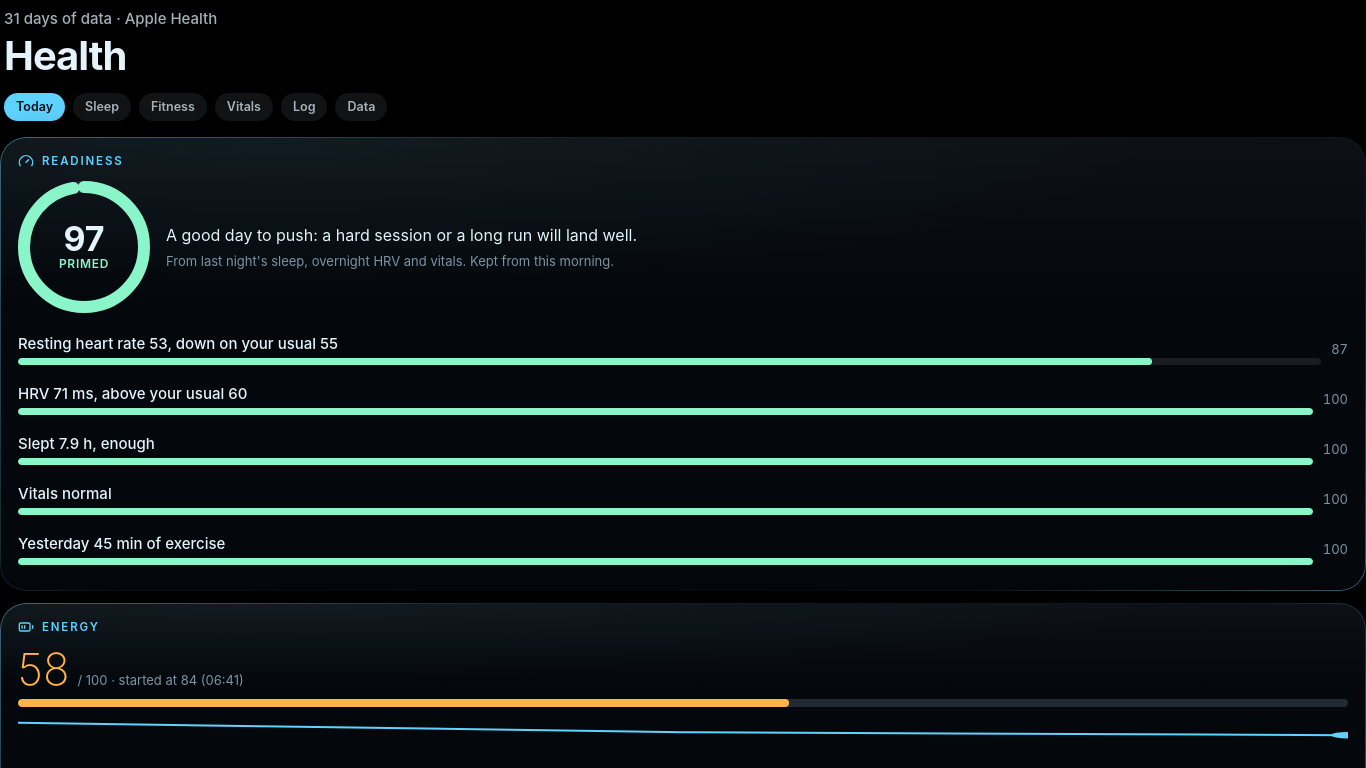
it: <HealthScreen /> › shows readiness with what drove it, then sleep, fitness and vitals
Check: the text "A good day to push: a hard session or a long run will land well." is shown, box [166,224,637,246]
Check: the text "HRV 71 ms, above your usual 60" is shown, box [18,384,247,403]
Click the tab "Sleep" at (102, 107), box [73,93,131,121]
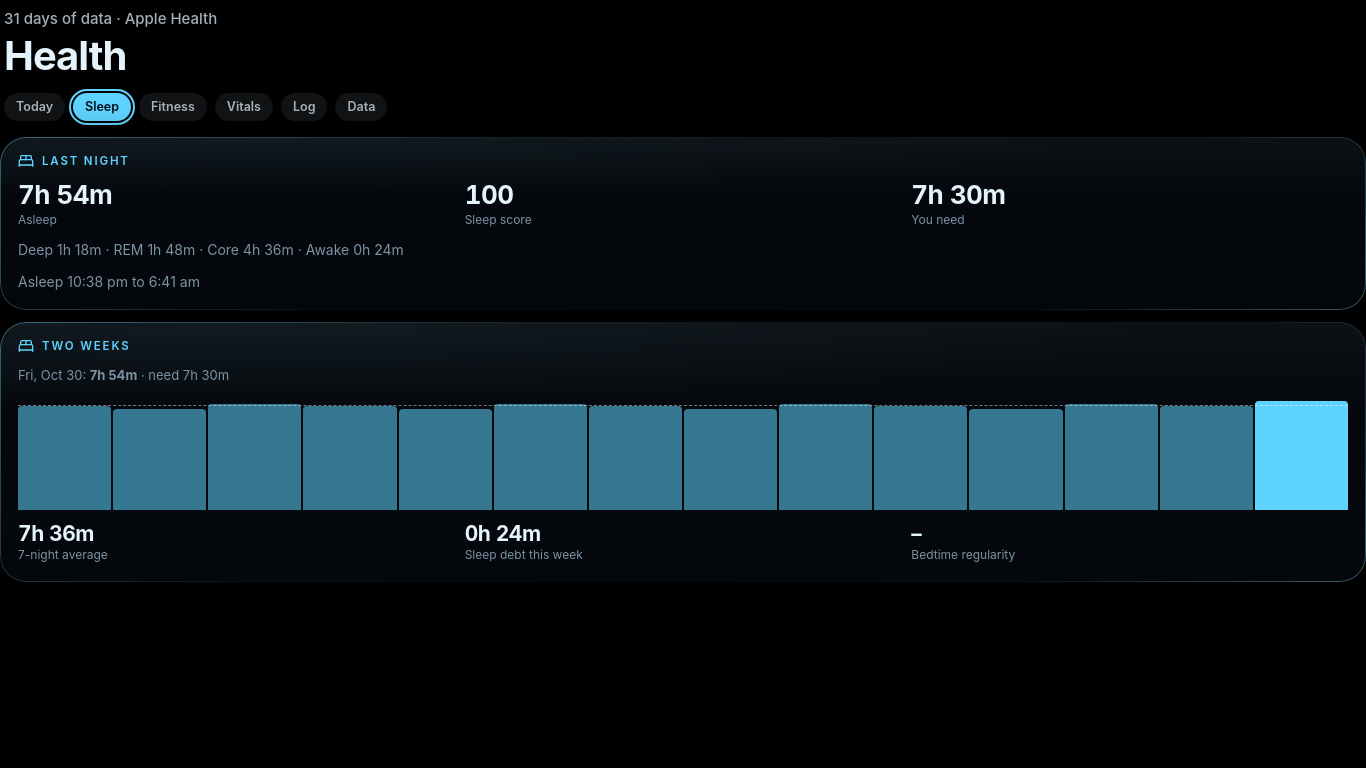
Check: the text "7h 54m" next to "100" is shown, box [18,179,112,210]
Check: the text "Asleep 10:38 pm to 6:41 am" is shown, box [18,273,200,290]
Hover over the list item named "Sat, Oct 17: 7h 30m" at (65, 450), box [18,390,111,510]
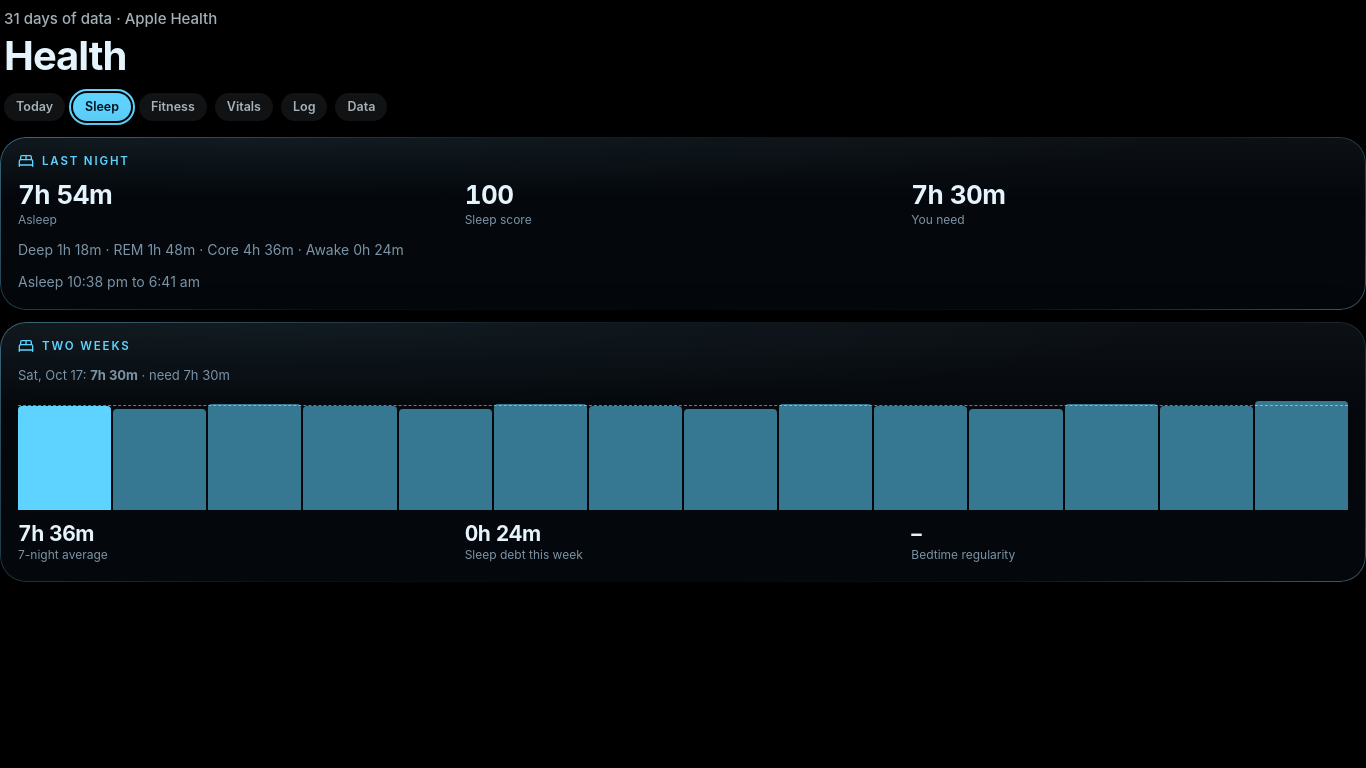
Check: the text "Sat, Oct 17: 7h 30m · need 7h 30m" is shown, box [18,367,230,383]
Click the tab "Fitness" at (173, 107), box [139,93,207,121]
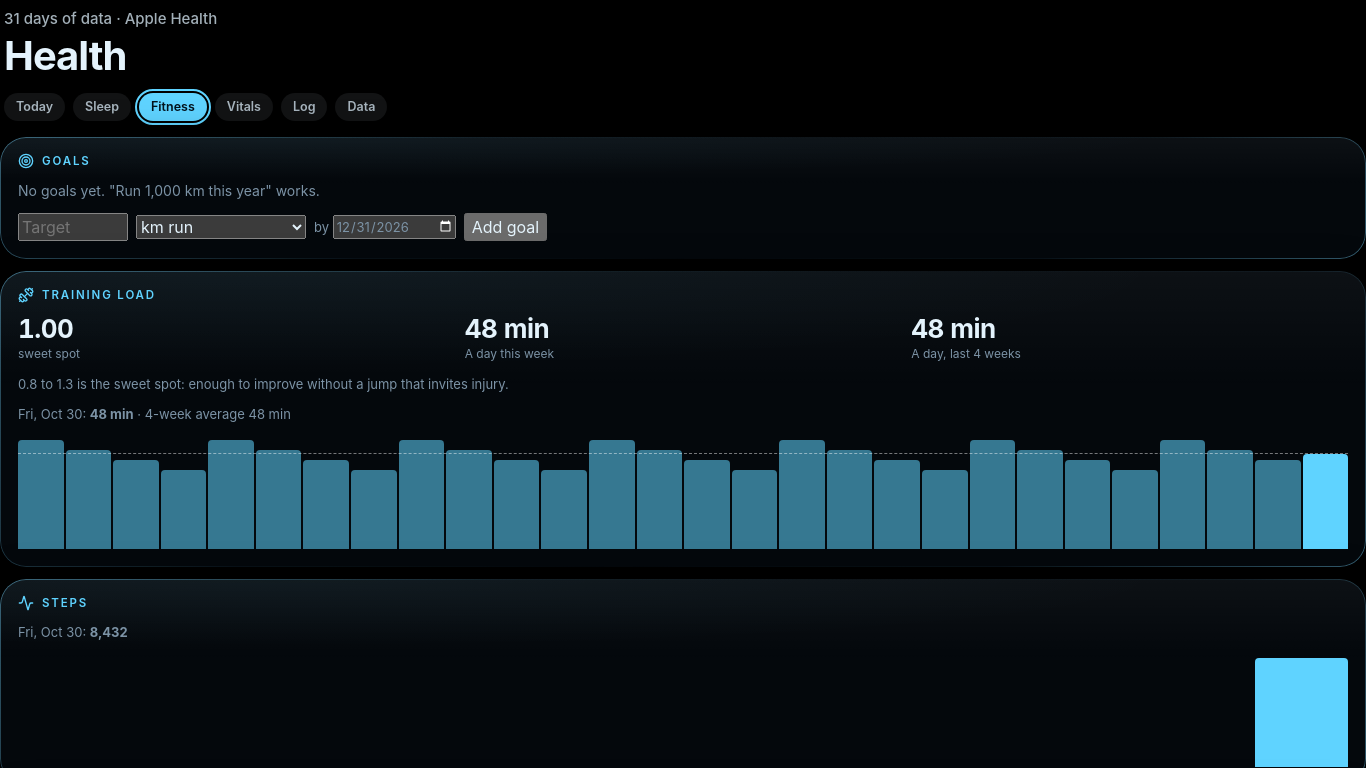
Click the tab "Vitals" at (244, 107), box [215,93,273,121]
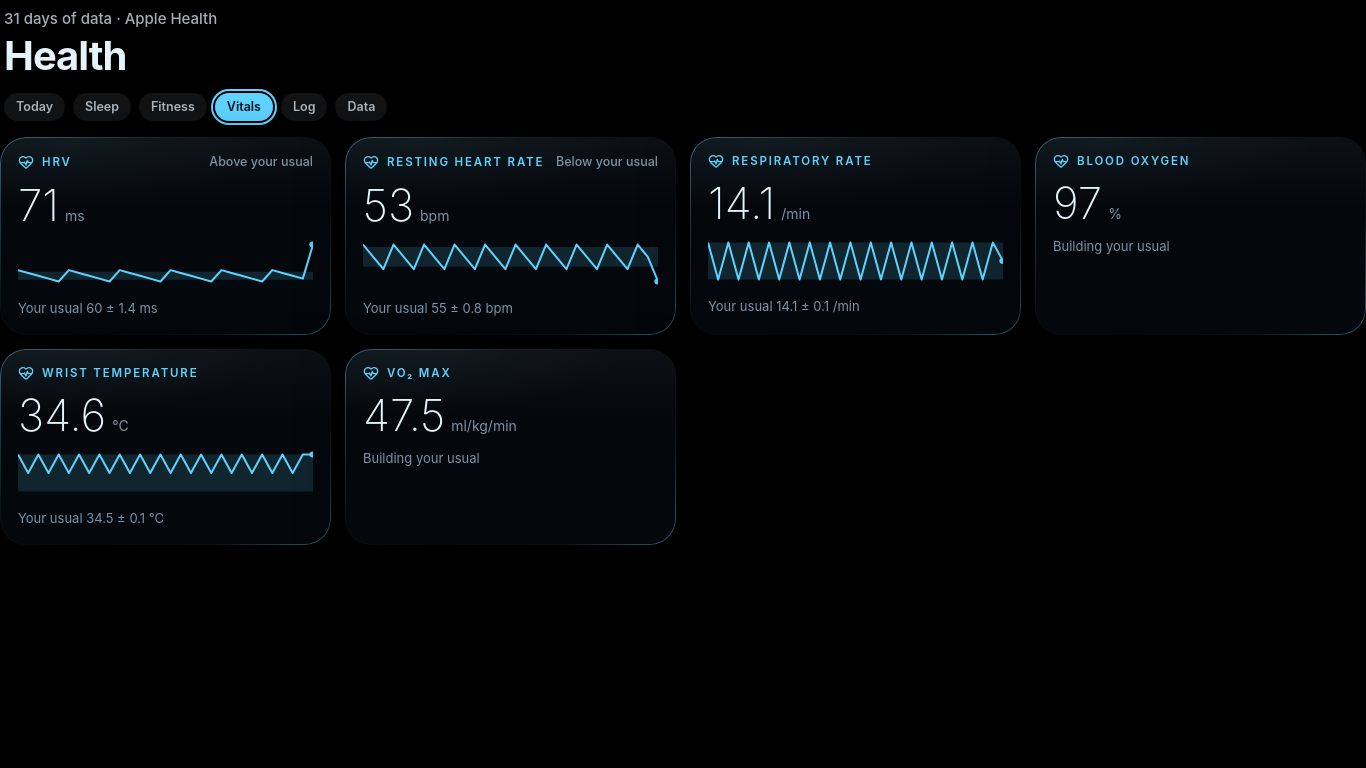
Check: the element "VO₂ max" is shown, box [345,349,676,545]
